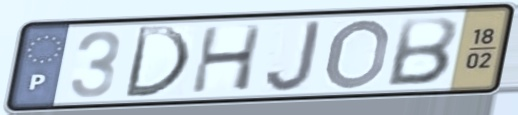3: (68, 28, 123, 100)
B: (382, 14, 461, 89)
D: (120, 24, 194, 100)
H: (188, 22, 267, 96)
J: (262, 17, 325, 94)
O: (321, 16, 394, 91)
